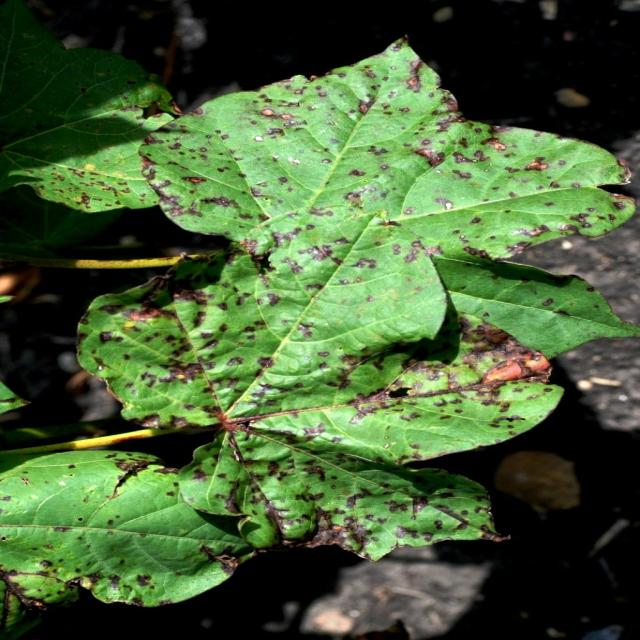Bacterial Blight: (94, 66, 613, 423)
